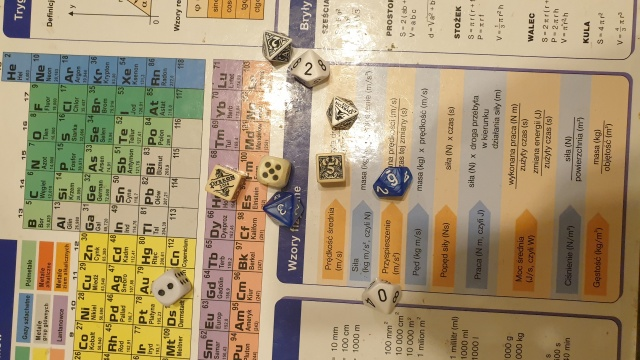d10-10: (354, 276, 407, 321)
d10-2: (287, 48, 334, 89)
d10-3: (272, 200, 292, 223)
d10-6: (373, 164, 414, 204)
d6-2: (149, 269, 189, 306)
d6-5: (253, 154, 291, 190)
d6p-1: (201, 163, 240, 203)
d6p-5: (314, 150, 347, 185)
d8p-1: (325, 95, 359, 134)
d8p-2: (260, 25, 295, 66)
